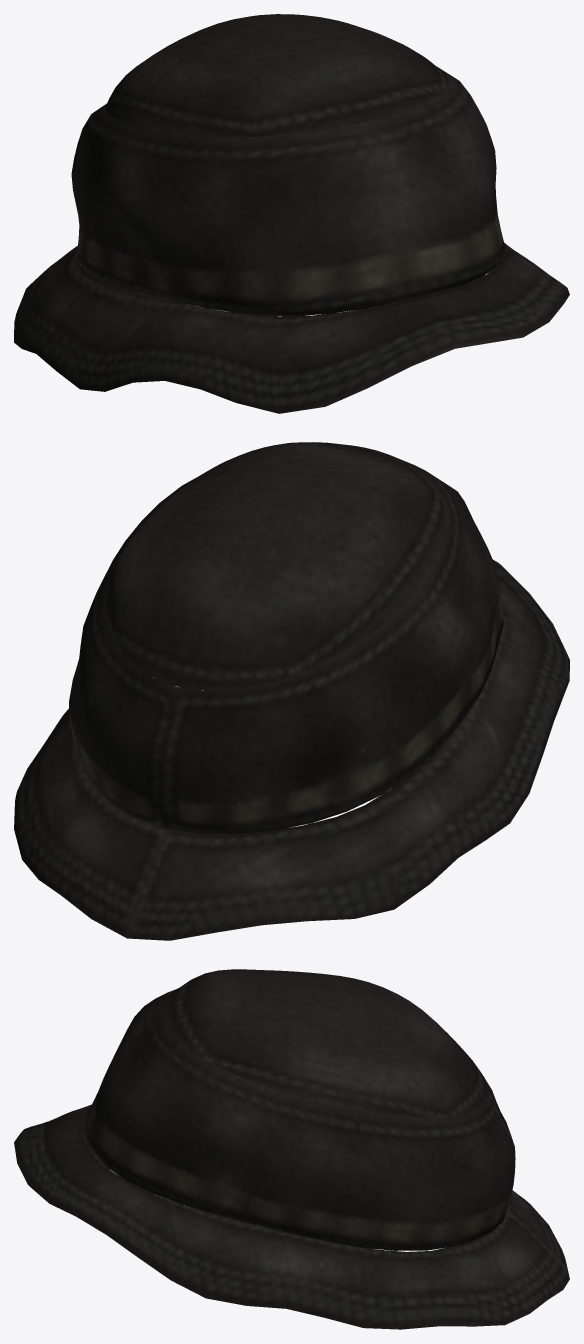
The model's file is bucket_hat (1).glb.
3 renders of one model, top to bottom at view 1: azimuth 30°, elevation 25°; view 2: azimuth 150°, elevation 25°; view 3: azimuth 270°, elevation 25°, orthographic. The views are drawn at different scales.
Visible parts, largest first — view 1: Boonie_1; view 2: Boonie_1; view 3: Boonie_1.
Part boxes in pixels (x1=…): Boonie_1: x1=14, y1=14, x2=569, y2=413; Boonie_1: x1=14, y1=442, x2=569, y2=940; Boonie_1: x1=14, y1=969, x2=569, y2=1329.
Bounding box in the file's own units: 0.2144 × 0.1628 × 0.284.
Materials: 1 (1 with a texture image).
